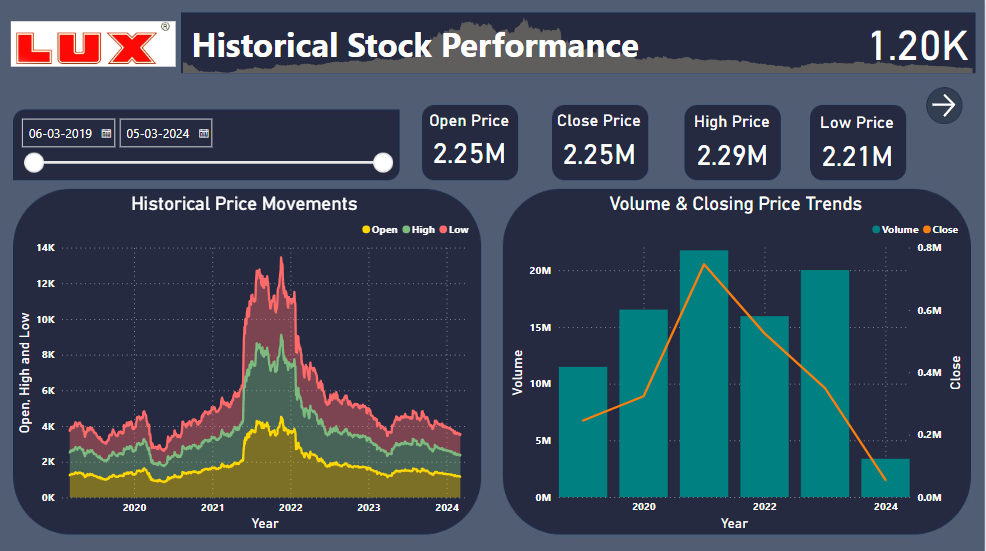

The page's visual inventory and layout, read from the dashboard file:
{"tool":"powerbi","page":{"name":"Trend Analysis","canvas":[1280,720],"ordinal":0},"visuals":[{"type":"card","title":"Close Price","fields":{"Values":["Sum(LUXIND NS.Close)"]},"box":[720,144.6,119.5,80.6],"z":0},{"type":"card","title":"Open Price","fields":{"Values":["Sum(LUXIND NS.Open)"]},"box":[550.3,144.3,120,80],"z":1000},{"type":"card","title":"High Price","fields":{"Values":["Sum(LUXIND NS.High)"]},"box":[892.4,145.9,119.5,80.6],"z":2000},{"type":"card","title":"Low Price","fields":{"Values":["Sum(LUXIND NS.Low)"]},"box":[1055,147.3,119.5,80.6],"z":3000},{"type":"slicer","fields":{"Values":["Lux Dataset.Date"]},"box":[17.1,144.3,502.9,90],"z":4000},{"type":"image","box":[10,15.7,224.3,82.9],"z":5000},{"type":"kpi","fields":{"TrendLine":["Lux Dataset.Date"],"Indicator":["Sum(Lux Dataset.Close)"]},"box":[234.3,17.1,1035.7,82.9],"z":5500},{"type":"textbox","box":[234.3,22.9,612.9,70],"z":6000},{"type":"lineStackedColumnComboChart","title":"Volume & Closing Price Trends ","fields":{"Y":["Sum(Lux Dataset.Volume)"],"Y2":["Sum(Lux Dataset.Close)"],"Category":["Lux Dataset.Date.Variation.Date Hierarchy.Year"]},"box":[657.1,250,598.6,444.3],"z":8000},{"type":"stackedAreaChart","title":"Historical Price Movements","fields":{"Category":["Lux Dataset.Date.Variation.Date Hierarchy.Year","Lux Dataset.Date.Variation.Date Hierarchy.Quarter","Lux Dataset.Date.Variation.Date Hierarchy.Month","Lux Dataset.Date.Variation.Date Hierarchy.Day"],"Y":["Sum(Lux Dataset.Open)","Sum(Lux Dataset.High)","Sum(Lux Dataset.Low)"]},"box":[16.7,250.2,603.2,444.8],"z":9000},{"type":"actionButton","box":[1201.4,117.1,50,40],"z":10000}]}

Visuals, with their boxes in screenshot pixels (x1, y1, x2, y2), scaled from the page's 1280x720 canvas onto the 986x551 screenshot:
"Close Price" card: l=555, t=111, r=647, b=172
"Open Price" card: l=424, t=110, r=516, b=172
"High Price" card: l=687, t=112, r=779, b=173
"Low Price" card: l=813, t=113, r=905, b=174
slicer - Lux Dataset.Date: l=13, t=110, r=401, b=179
image: l=8, t=12, r=180, b=75
kpi - Lux Dataset.Date x Sum(Lux Dataset.Close): l=180, t=13, r=978, b=77
textbox: l=180, t=18, r=653, b=71
"Volume & Closing Price Trends " lineStackedColumnComboChart: l=506, t=191, r=967, b=531
"Historical Price Movements" stackedAreaChart: l=13, t=191, r=478, b=532
actionButton: l=925, t=90, r=964, b=120
